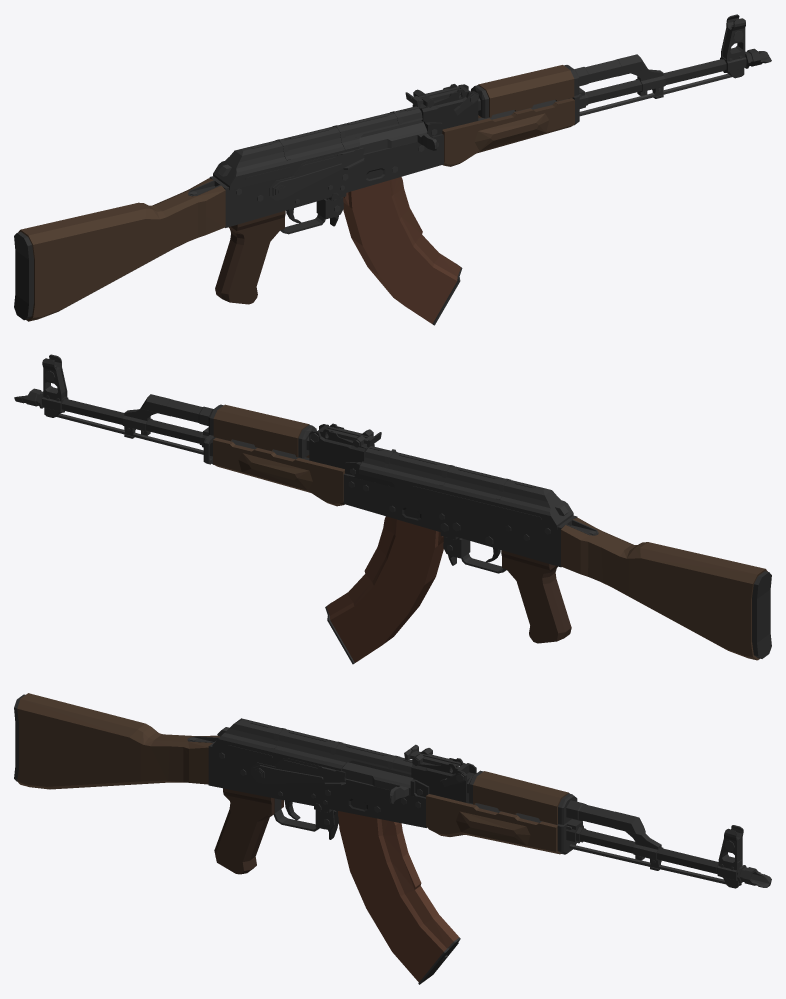
The model's file is AKM1.fbx.
3 views of the same model, one above another, from view 1: azimuth 30°, elevation 25°; view 2: azimuth 150°, elevation 25°; view 3: azimuth 330°, elevation 25° (orthographic).
Visible parts, largest first — view 1: AKM; view 2: AKM; view 3: AKM.
Part boxes in pixels (bbox=[...]): AKM: bbox=[14, 14, 771, 325]; AKM: bbox=[14, 354, 771, 664]; AKM: bbox=[14, 693, 771, 984].
Bounding box in the file's own units: 480 × 139 × 37.79.
